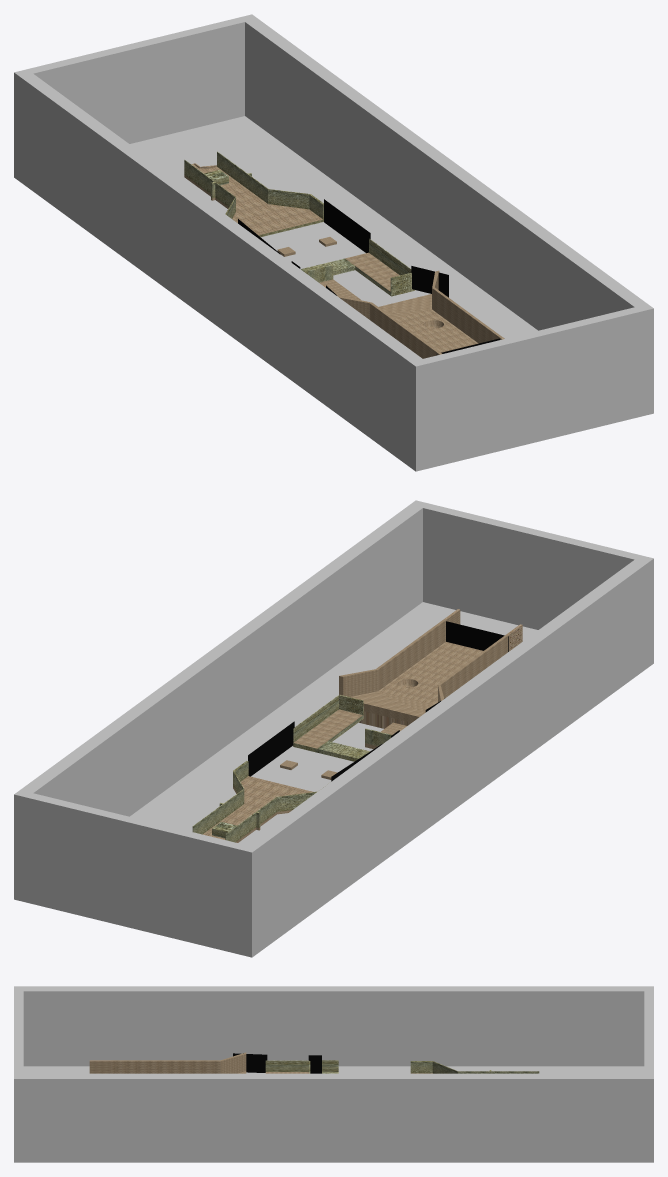
File: Stage1.fbx
3 renders of one model, top to bottom at view 1: azimuth 30°, elevation 25°; view 2: azimuth 150°, elevation 25°; view 3: azimuth 270°, elevation 25°, orthographic. The views are drawn at different scales.
Parts seen in each view (by area): view 1: Box009, Box004, Box008, Box003, Plane006, Plane002, Box002; view 2: Box009, Box008, Box004, Box003, Plane006, Plane001; view 3: Box009, Box008, Box004, Box002, Plane003.
Part boxes in pixels (left/top/right/bottom): Box009: left=14, top=14, right=653, bottom=471; Box004: left=184, top=151, right=323, bottom=237; Box008: left=337, top=270, right=504, bottom=358; Box003: left=301, top=239, right=415, bottom=296; Plane006: left=324, top=199, right=370, bottom=253; Plane002: left=411, top=266, right=448, bottom=297; Box002: left=304, top=264, right=360, bottom=299; Box009: left=14, top=500, right=653, bottom=957; Box008: left=339, top=609, right=522, bottom=728; Box004: left=192, top=761, right=328, bottom=842; Box003: left=293, top=695, right=369, bottom=761; Plane006: left=248, top=721, right=294, bottom=776; Plane001: left=446, top=621, right=508, bottom=651; Box009: left=14, top=986, right=653, bottom=1162; Box008: left=89, top=1052, right=246, bottom=1073; Box004: left=410, top=1061, right=539, bottom=1073; Box002: left=265, top=1060, right=310, bottom=1073; Plane003: left=233, top=1053, right=267, bottom=1072.
Bounding box in the file's own units: 10222 × 29879 × 4331.
